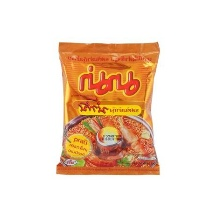snack: (48, 35, 170, 183)
